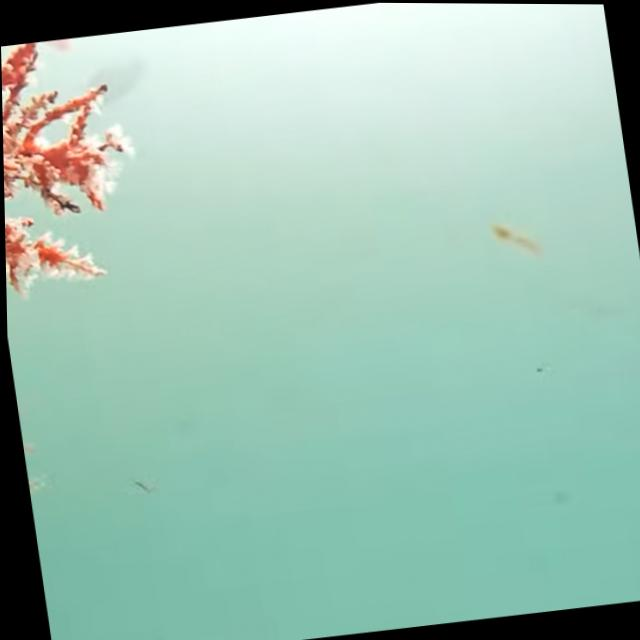fish: (48, 625, 176, 640)
